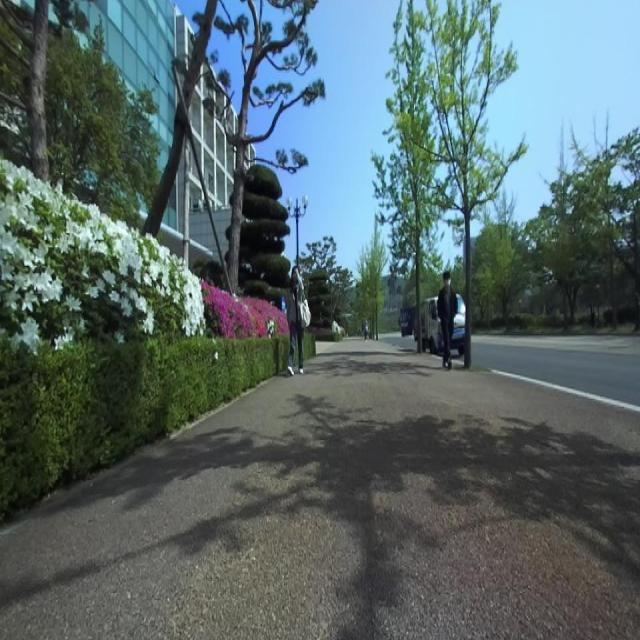sidewalk: (0, 339, 640, 639)
